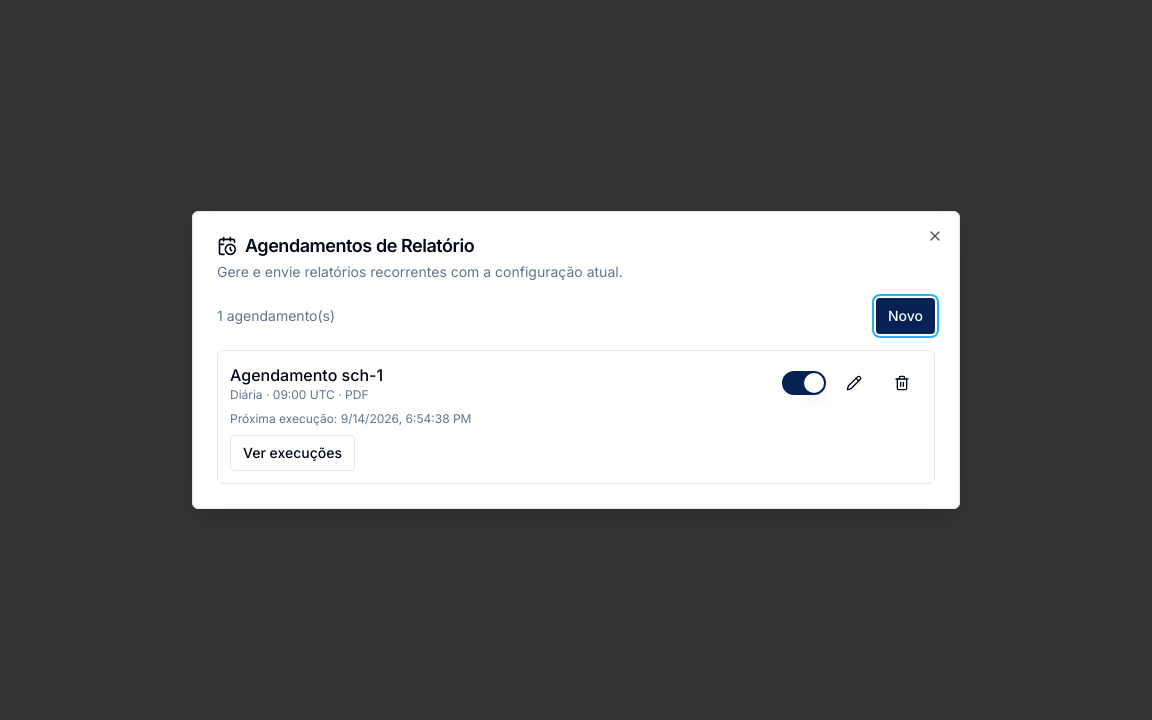
Test case: ScheduleList — P7.2 retenção › run prunado exibe badge 'Arquivo removido por retenção'
Check: the text "Agendamento sch-1" is shown, box [230, 363, 383, 387]
Click the button "Ver execuções": (292, 453) [230, 435, 355, 471]
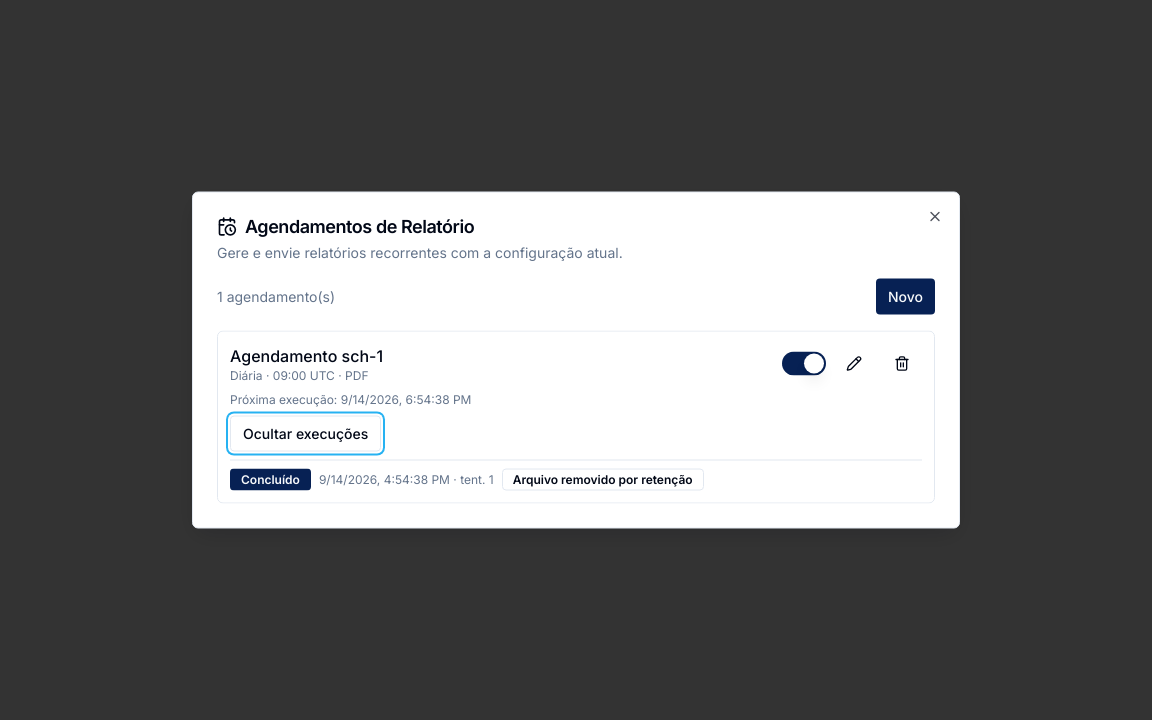
Check: the text "Arquivo removido por retenção" is shown, box [502, 468, 704, 490]
